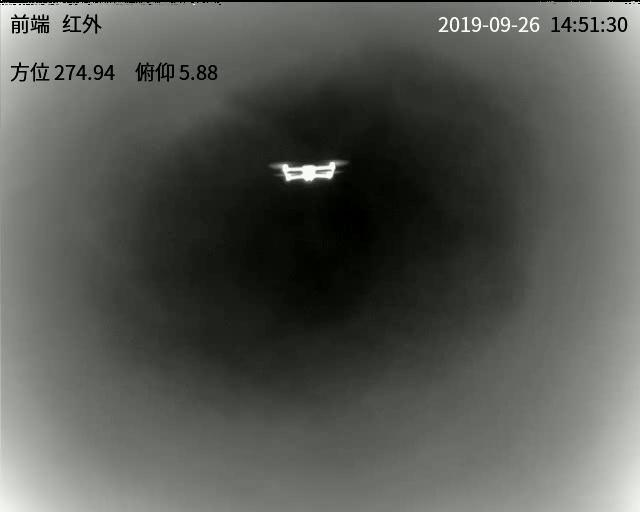DRONE: (275, 157, 343, 182)
